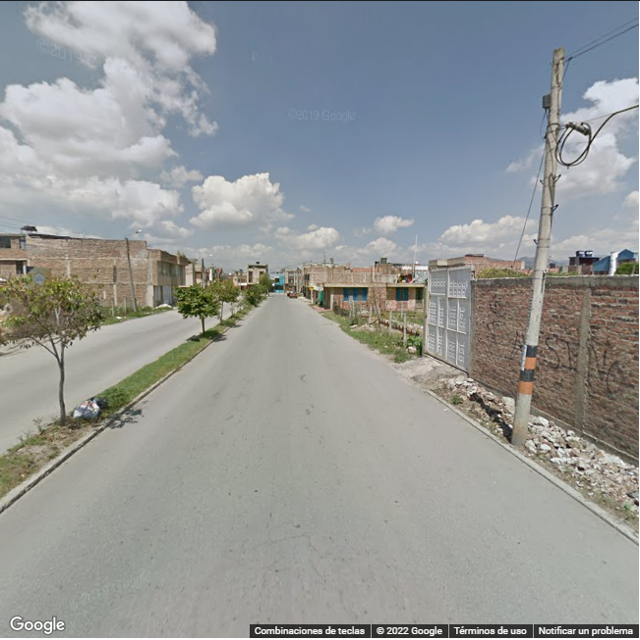D00: (255, 548, 287, 595), (274, 482, 293, 519)
D10: (273, 533, 312, 546)
